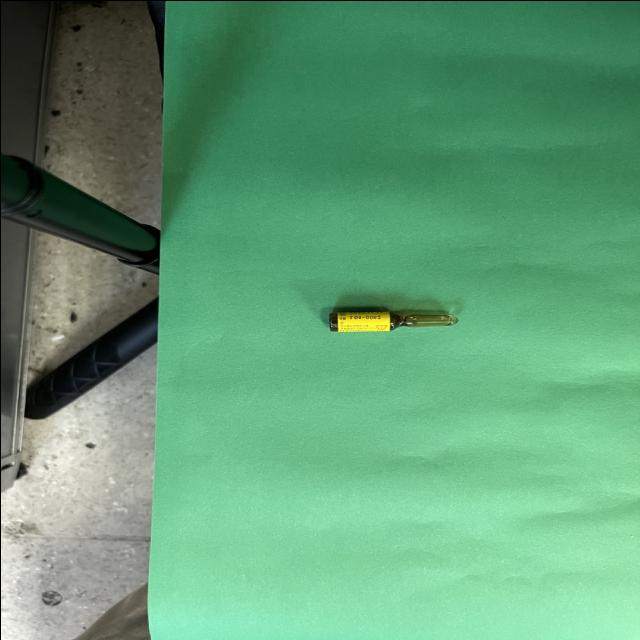Ampoules: (328, 310, 456, 332)
